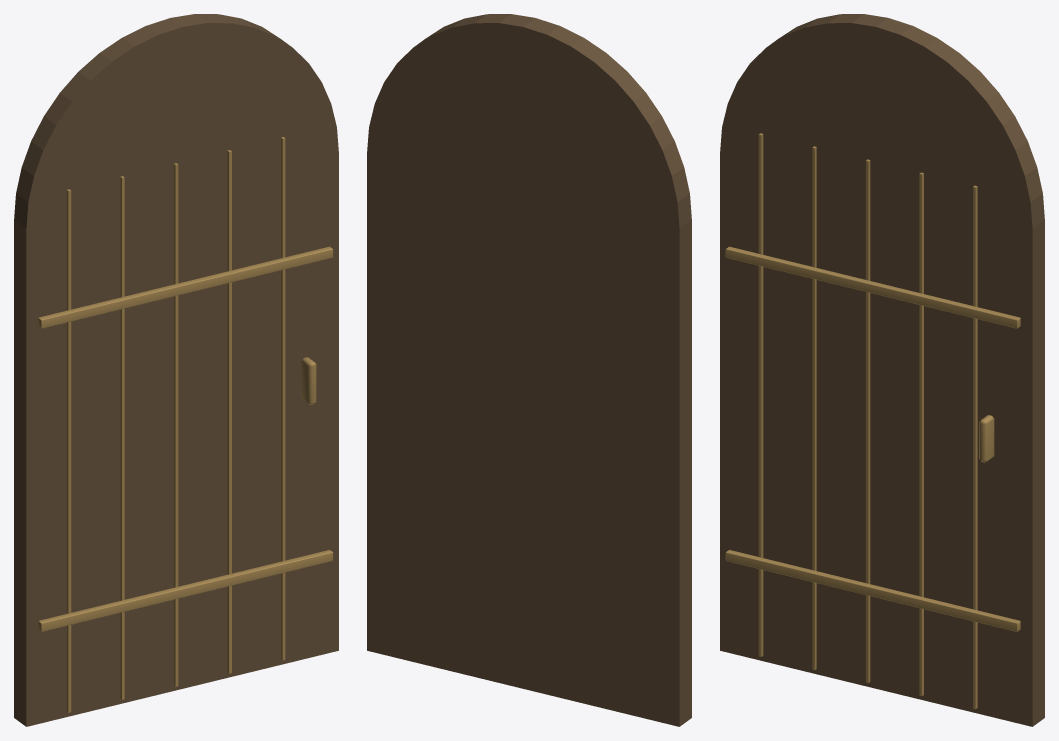
File: door.glb
3 renders of one model, left to right at view 1: azimuth 30°, elevation 25°; view 2: azimuth 150°, elevation 25°; view 3: azimuth 330°, elevation 25°, orthographic.
Visible parts, largest first — view 1: arched oak leaf, door join; view 2: arched oak leaf; view 3: arched oak leaf, door join.
Boxes of the visible parts, box(x1,y1,x2,y2) form: arched oak leaf: box(14, 14, 338, 726); door join: box(38, 137, 333, 712); arched oak leaf: box(367, 14, 691, 726); arched oak leaf: box(720, 14, 1044, 726); door join: box(725, 133, 1020, 709).
Bounding box in the file's own units: 1.24 × 2.51 × 0.1725.
